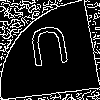U: (25, 25, 74, 77)
